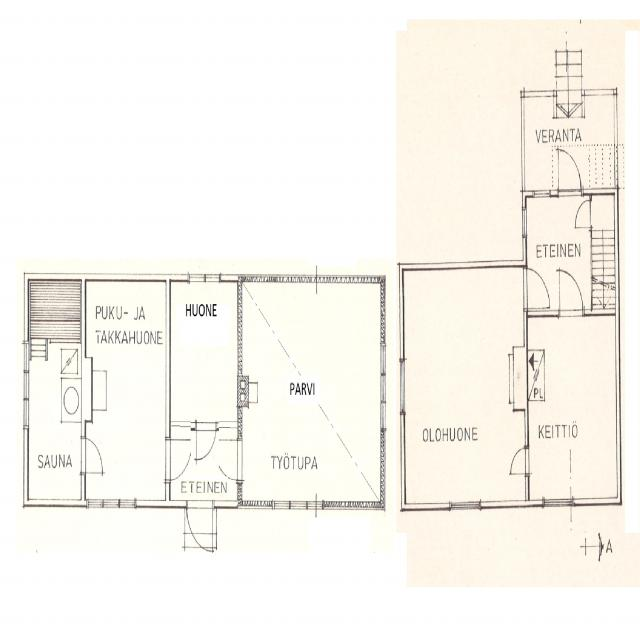door: (186, 499, 212, 554), (165, 439, 192, 479), (559, 150, 581, 196), (560, 270, 582, 316), (215, 440, 241, 478), (523, 269, 548, 307), (196, 421, 217, 463), (82, 438, 105, 473), (576, 200, 592, 227), (509, 447, 526, 472)
